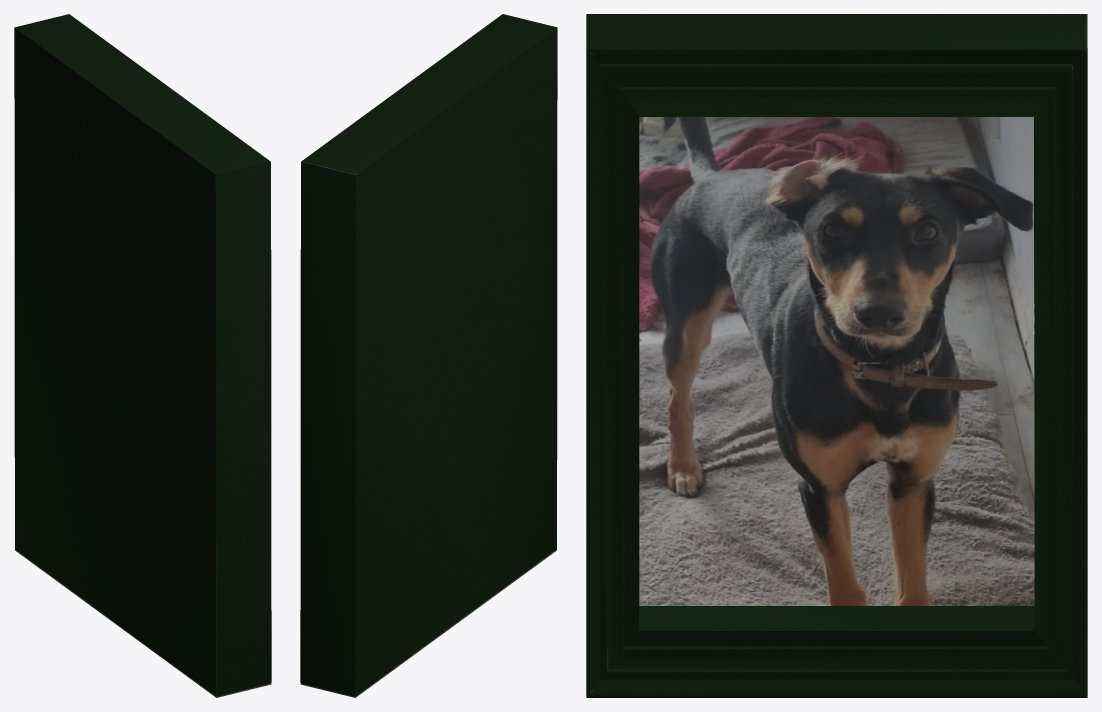
The model's file is dannydogframe.fbx.
The picture shows the model from 3 angles, left to right: view 1: azimuth 30°, elevation 25°; view 2: azimuth 150°, elevation 25°; view 3: azimuth 270°, elevation 25°; orthographic projection. The views are drawn at different scales.
Parts seen in each view (by area): view 1: Cube.008; view 2: Cube.008; view 3: Cube.008.
Part boxes in pixels (x1,y1,x2,y2): Cube.008: [14, 14, 271, 697]; Cube.008: [300, 14, 557, 697]; Cube.008: [586, 14, 1087, 697].
Size of the model in its own units: 42.27 by 368 by 257.
